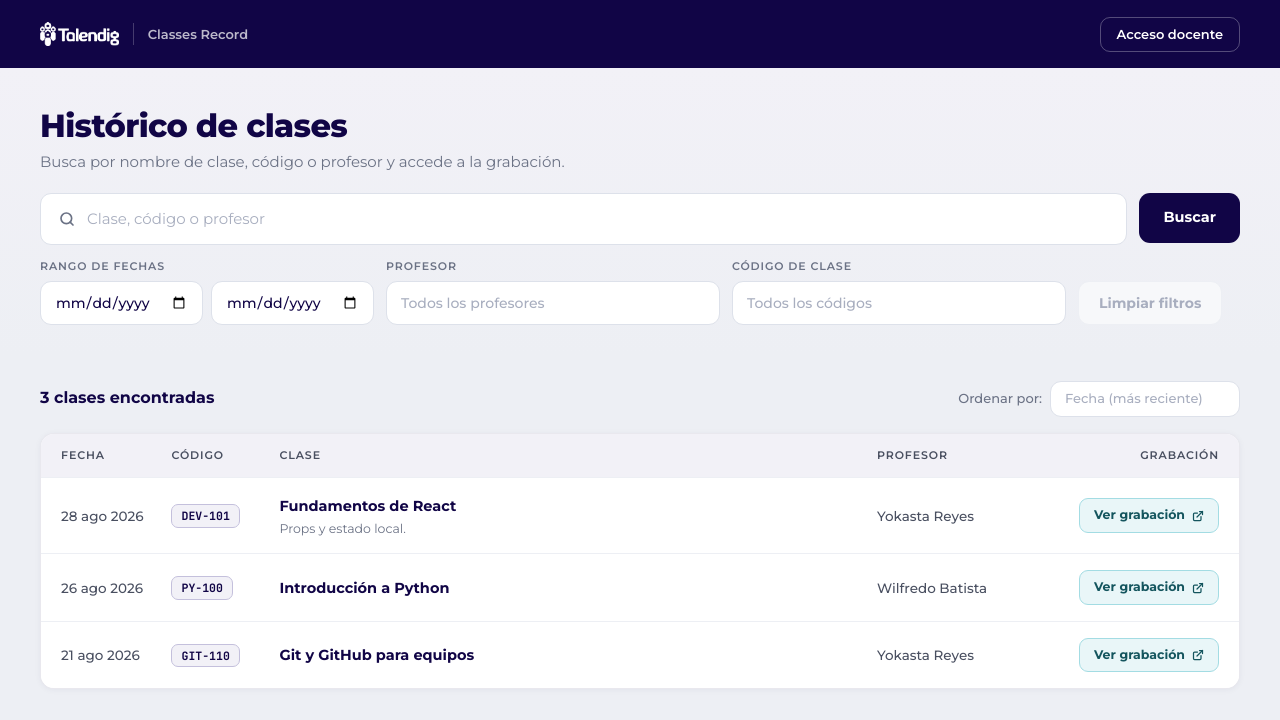
Test: PublicSearchPage › says so plainly when a class has no comment
Check: the heading "3 clases encontradas" is shown, box x1=40 y1=388 x2=214 y2=409
Click the button "Introducción a Python" at (364, 588), box x1=280 y1=579 x2=450 y2=598
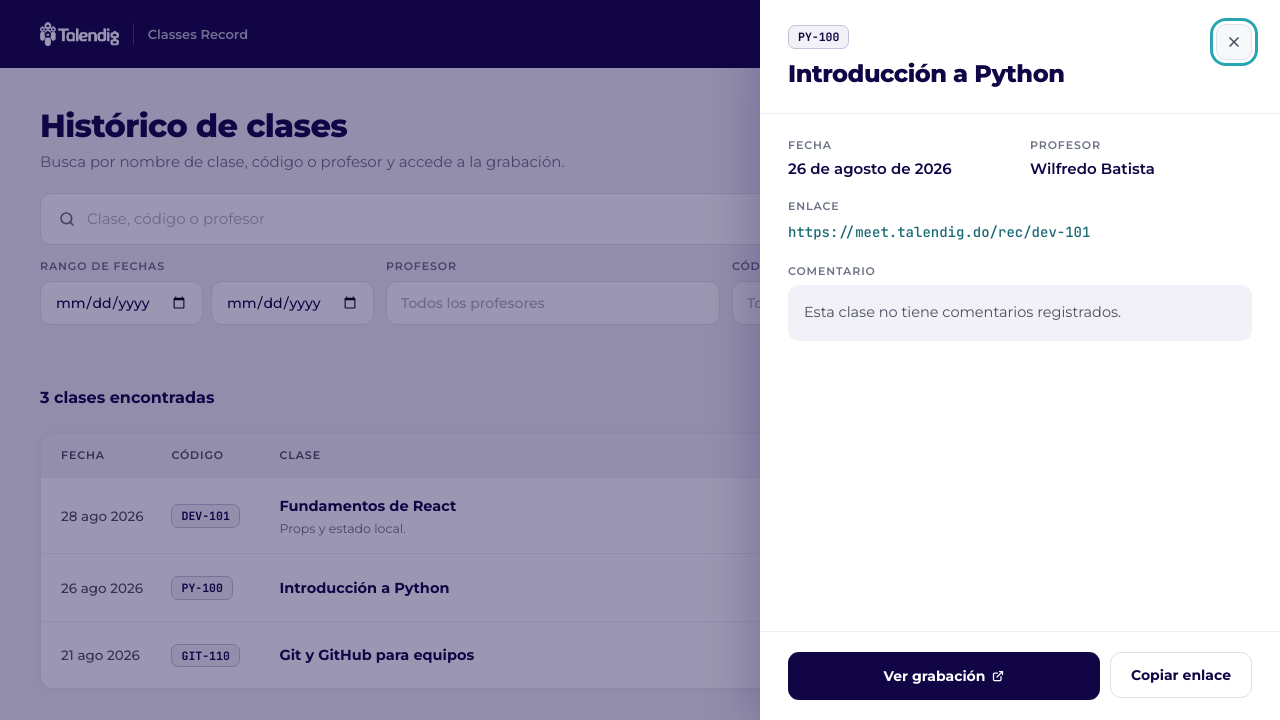
Check: the text "Esta clase no tiene comentarios registrados." is shown, box x1=788 y1=285 x2=1252 y2=341
